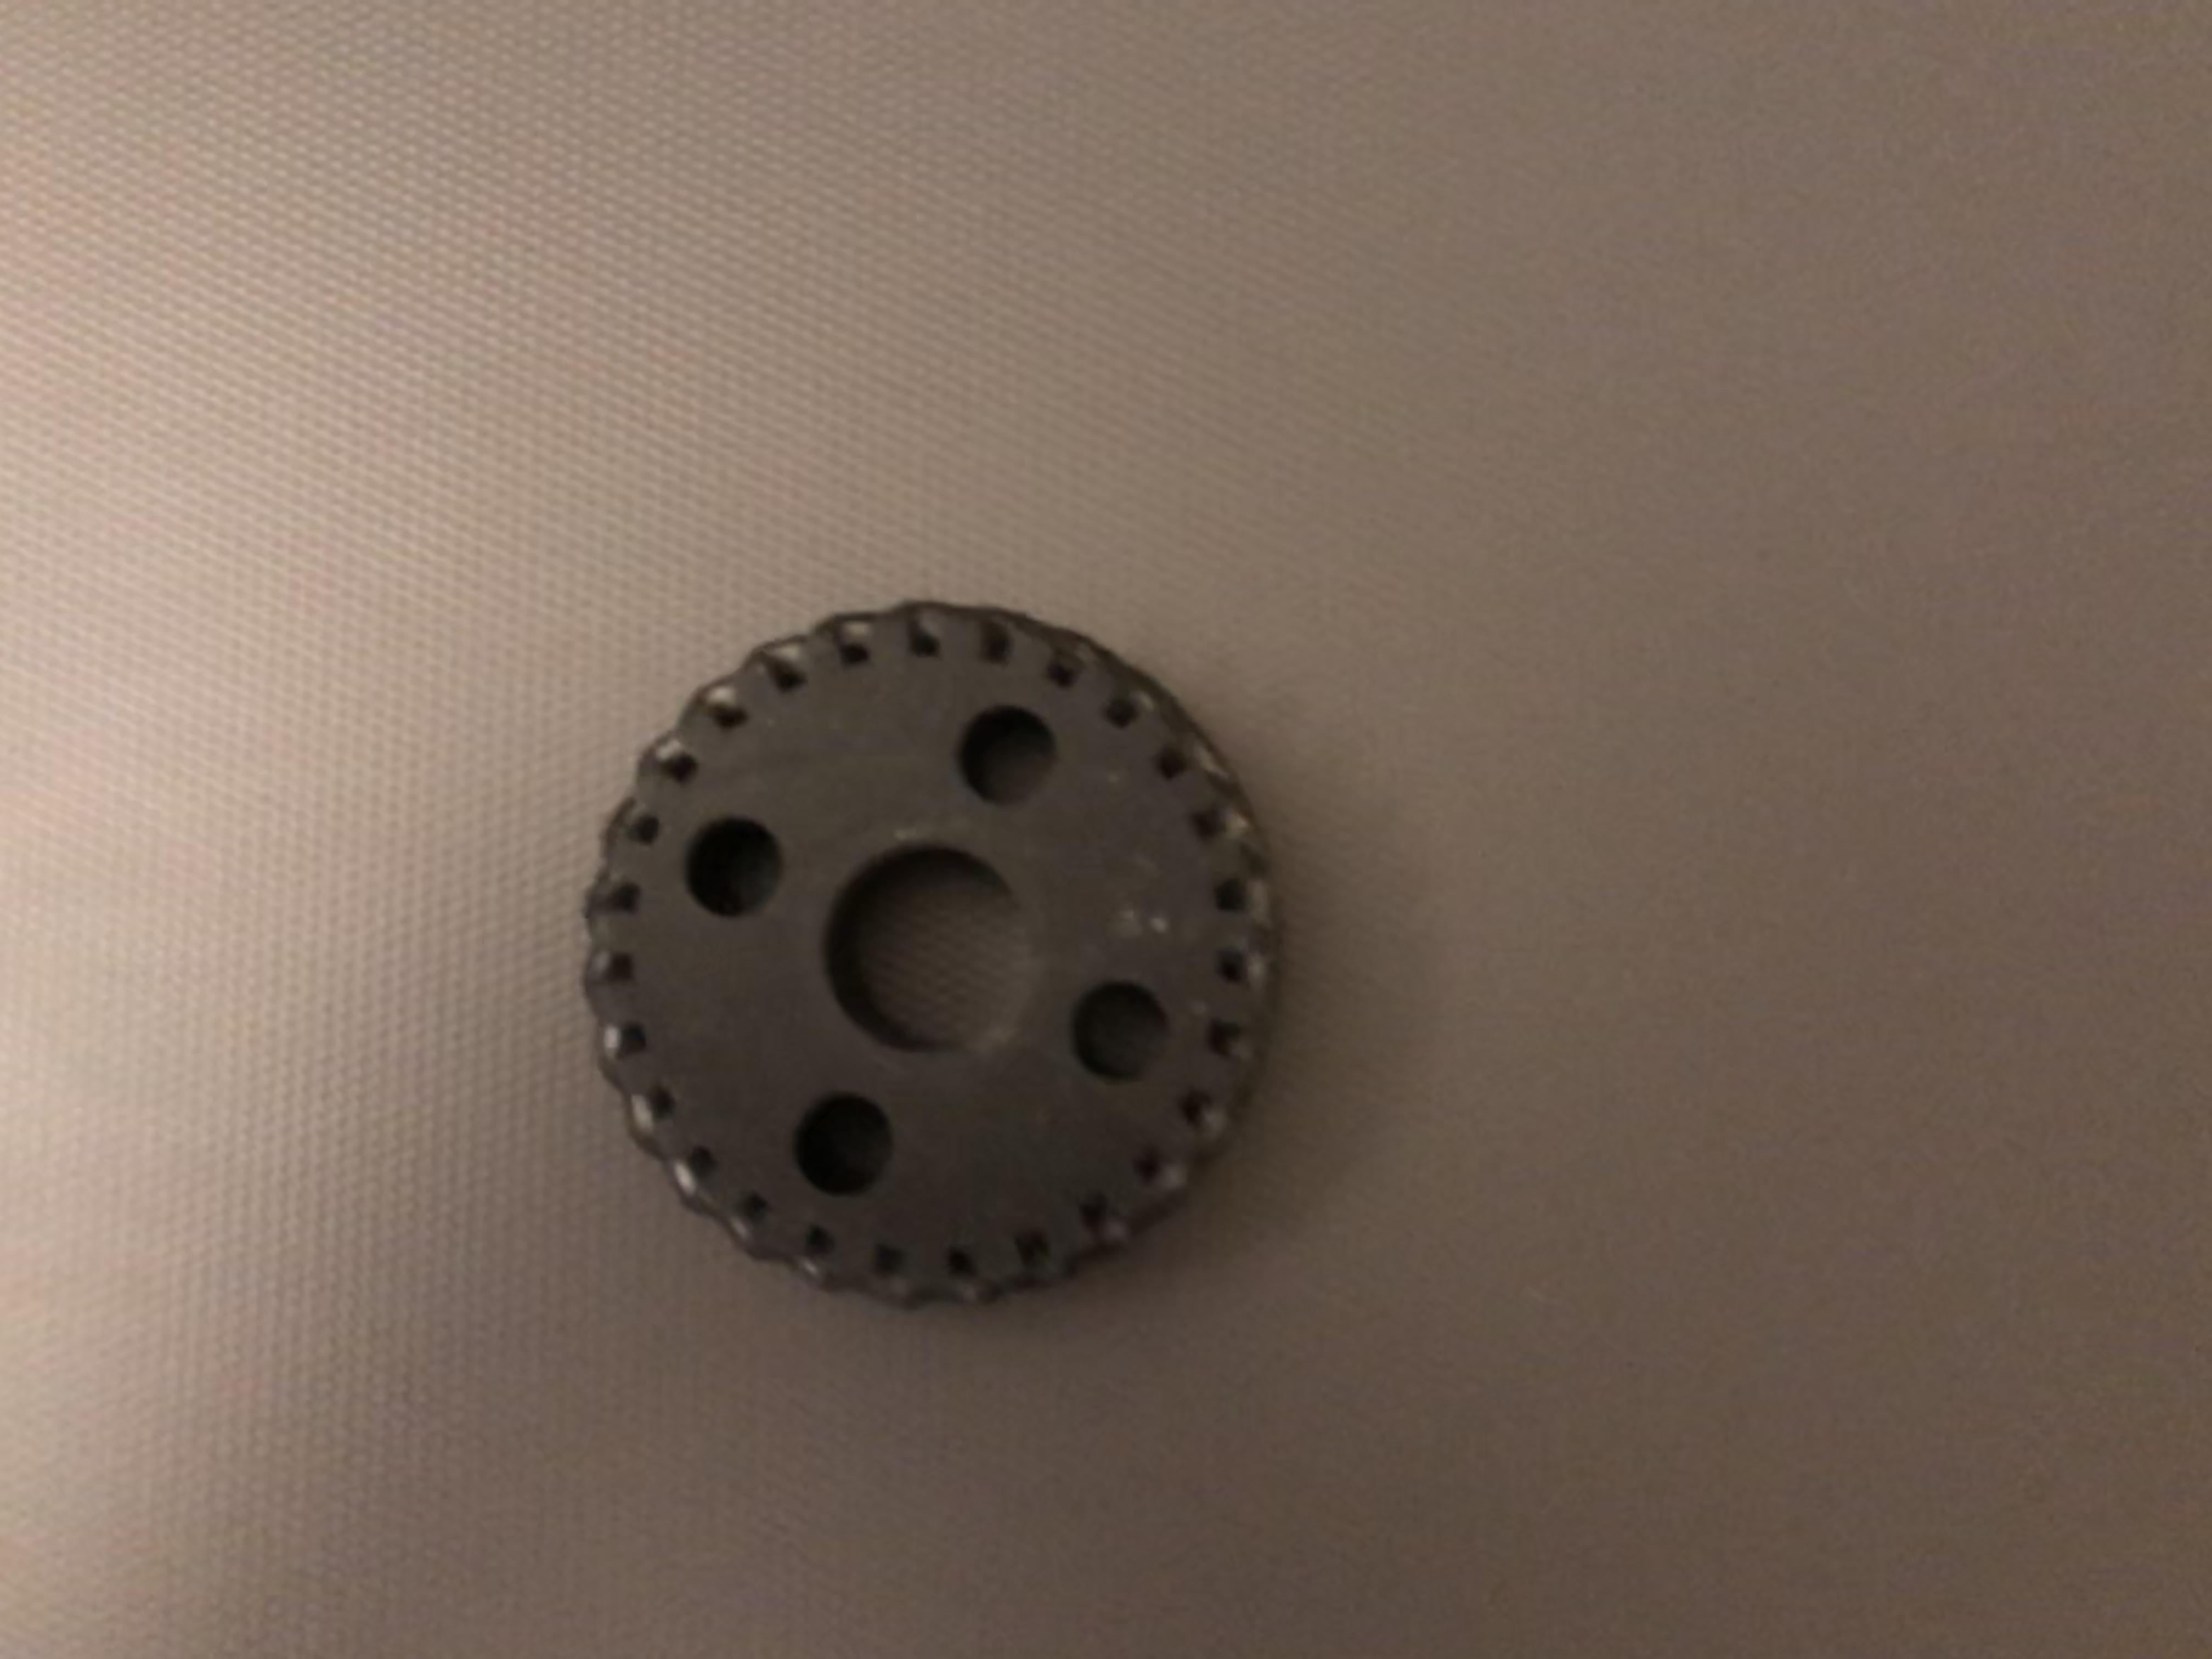Wheel: (566, 591, 1294, 1321)
